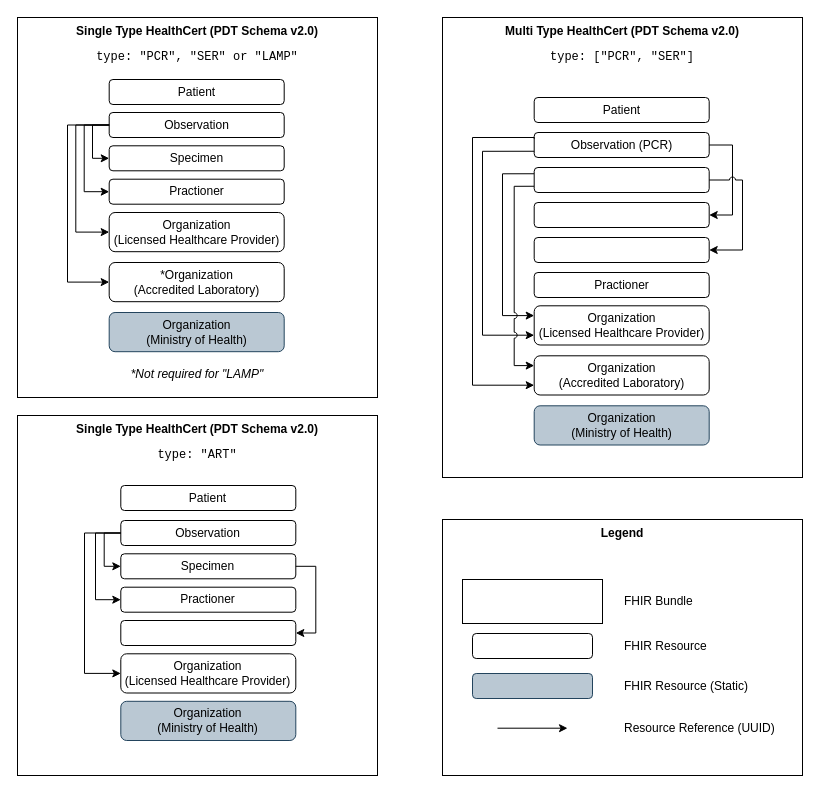
Image size: 820x793. Some labels were removed from this diagram. The shapes that lost their labels are listed below. From the top down, each one's centre as x and y in pixels, then its label:
point 621,179: Observation (SER)
point 621,215: Specimen (PCR)
point 621,249: Specimen (SER)
point 208,633: Device
